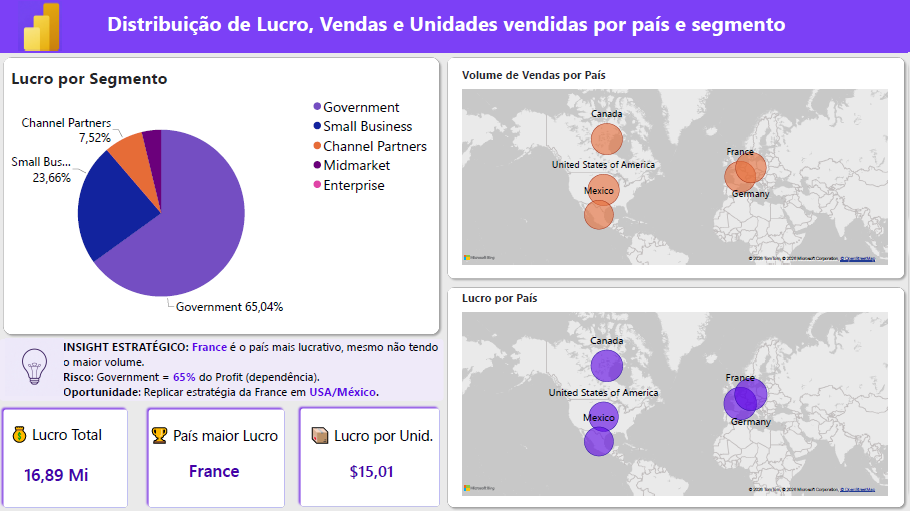

The page's visual inventory and layout, read from the dashboard file:
{"tool":"powerbi","page":{"name":"Página 3","canvas":[1920,1080],"ordinal":2},"visuals":[{"type":"shape","box":[627.2,854.6,310.4,223.2],"z":0},{"type":"shape","box":[938.2,597.3,981.8,481.9],"z":1000},{"type":"shape","box":[0,112.8,938.2,602.4],"z":2000},{"type":"shape","box":[0,0,1920,110.9],"z":3000},{"type":"shape","box":[938.2,112.8,981.8,484.5],"z":4000},{"type":"shape","box":[0,856.8,278.5,223.2],"z":4500},{"type":"pieChart","title":"Lucro por Segmento ","fields":{"Category":["financials.Segment"],"Y":["Sum(financials.Profit)"]},"box":[8.1,126.4,919.7,586.2],"z":5000},{"type":"map","title":"Volume de Vendas por País","fields":{"Category":["financials.Country"],"Size":["Sum(financials. Sales)"]},"box":[961.3,125.6,930.5,448.6],"z":6000},{"type":"map","title":"Lucro por País","fields":{"Category":["financials.Country"],"Size":["Sum(financials.Profit)"]},"box":[961.3,597.3,930.5,464],"z":7000},{"type":"textbox","box":[227.5,19.1,1586,91.4],"z":8000},{"type":"image","box":[0,2.5,168.8,103.3],"z":9000},{"type":"shape","box":[306.1,856.8,304,223.2],"z":11000},{"type":"cardVisual","fields":{"Data":["Sum(financials.Profit)"]},"box":[12.8,895,214.5,171.6],"z":13000},{"type":"cardVisual","fields":{"Data":["financials.Pais Mais Lucrativo"]},"box":[316.8,897.2,272.1,148.8],"z":14000},{"type":"shape","box":[0,715.2,938.2,130.7],"z":16000},{"type":"textbox","box":[133.9,714.3,793,142.4],"z":17000},{"type":"cardVisual","fields":{"Data":["financials.Lucro por Unidade"]},"box":[642,897.2,287,148.8],"z":18000},{"type":"image","box":[12.8,712.2,121.2,123.3],"z":18001}]}

Visuals, with their boxes in screenshot pixels (x1, y1, x2, y2), scaled from the page's 1920x1080 canvas onto the 910x511 screenshot:
shape: pyautogui.locateOnScreen(297, 404, 444, 510)
shape: pyautogui.locateOnScreen(445, 283, 909, 510)
shape: pyautogui.locateOnScreen(0, 53, 445, 338)
shape: pyautogui.locateOnScreen(0, 0, 909, 52)
shape: pyautogui.locateOnScreen(445, 53, 909, 283)
shape: pyautogui.locateOnScreen(0, 405, 132, 510)
"Lucro por Segmento " pieChart: pyautogui.locateOnScreen(4, 60, 440, 337)
"Volume de Vendas por País" map: pyautogui.locateOnScreen(456, 59, 897, 272)
"Lucro por País" map: pyautogui.locateOnScreen(456, 283, 897, 502)
textbox: pyautogui.locateOnScreen(108, 9, 860, 52)
image: pyautogui.locateOnScreen(0, 1, 80, 50)
shape: pyautogui.locateOnScreen(145, 405, 289, 510)
cardVisual - Sum(financials.Profit): pyautogui.locateOnScreen(6, 423, 108, 505)
cardVisual - financials.Pais Mais Lucrativo: pyautogui.locateOnScreen(150, 425, 279, 495)
shape: pyautogui.locateOnScreen(0, 338, 445, 400)
textbox: pyautogui.locateOnScreen(63, 338, 439, 405)
cardVisual - financials.Lucro por Unidade: pyautogui.locateOnScreen(304, 425, 440, 495)
image: pyautogui.locateOnScreen(6, 337, 64, 395)
